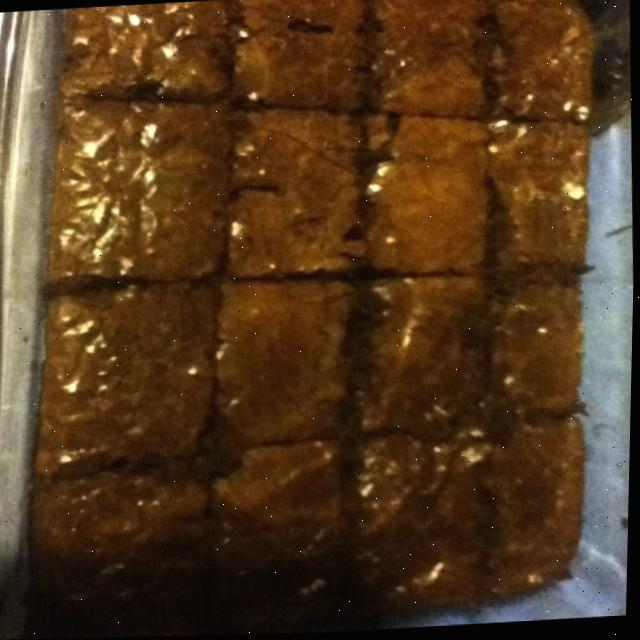蛋糕甜品: (32, 0, 625, 628)
